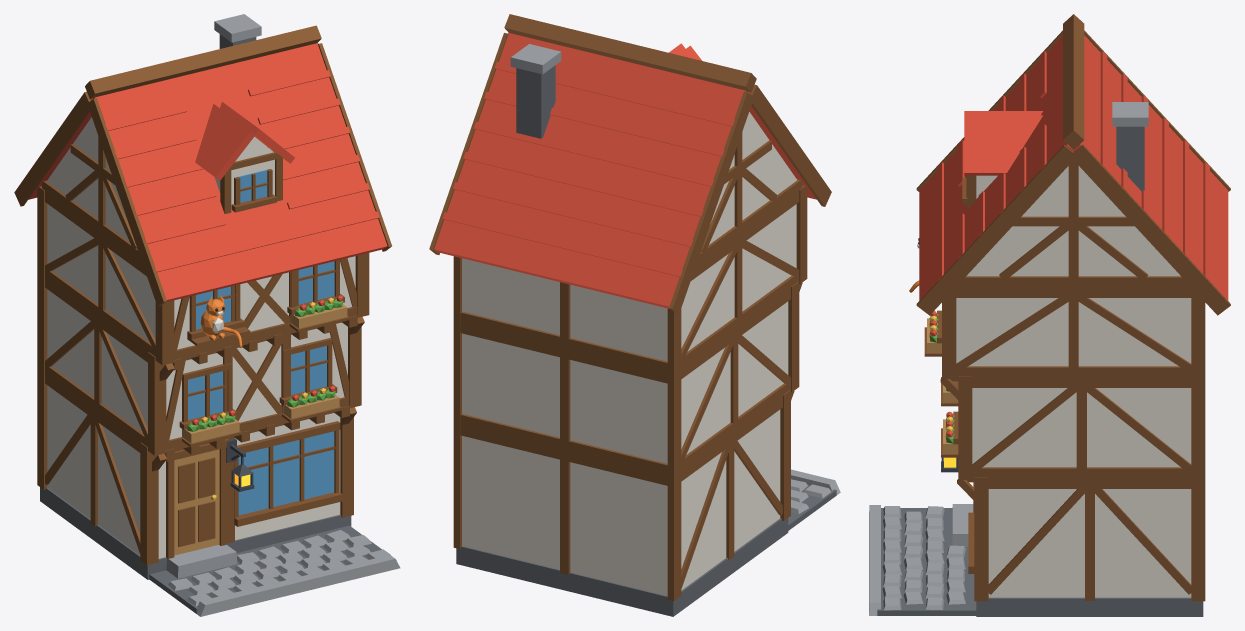
File: half-timbered-townhouse.glb
3 views of the same model, side by side, from view 1: azimuth 30°, elevation 25°; view 2: azimuth 150°, elevation 25°; view 3: azimuth 270°, elevation 25° (orthographic). The views are drawn at different scales.
Visible parts, largest first — view 1: Timber_Beams, Roof_Tiles, Plaster, Stone_Step_Cobbles, Windows_Glass, Plinth_Pavement_Chimney, Door_Panels, Flower_Boxes, Door, Flower_Leaves, Lantern, Cat; view 2: Plaster, Roof_Tiles, Timber_Beams, Plinth_Pavement_Chimney, Stone_Step_Cobbles; view 3: Plaster, Timber_Beams, Roof_Tiles, Stone_Step_Cobbles, Plinth_Pavement_Chimney, Flower_Boxes.
Part boxes in pixels (x1,y1,x2,y2): Timber_Beams: [14, 25, 391, 565]; Roof_Tiles: [28, 43, 387, 302]; Plaster: [46, 117, 355, 558]; Stone_Step_Cobbles: [166, 14, 400, 616]; Windows_Glass: [188, 170, 334, 515]; Plinth_Pavement_Chimney: [40, 34, 396, 613]; Door_Panels: [178, 457, 215, 546]; Flower_Boxes: [182, 304, 347, 443]; Door: [174, 449, 219, 555]; Flower_Leaves: [187, 298, 343, 431]; Lantern: [226, 438, 254, 491]; Cat: [200, 295, 225, 340]; Plaster: [462, 112, 796, 595]; Roof_Tiles: [434, 32, 816, 308]; Timber_Beams: [429, 14, 831, 601]; Plinth_Pavement_Chimney: [456, 65, 836, 616]; Stone_Step_Cobbles: [510, 44, 840, 513]; Plaster: [956, 166, 1191, 597]; Timber_Beams: [916, 14, 1230, 601]; Roof_Tiles: [919, 35, 1228, 300]; Stone_Step_Cobbles: [869, 102, 1148, 615]; Plinth_Pavement_Chimney: [877, 126, 1203, 616]; Flower_Boxes: [927, 318, 958, 453].
Size of the model in its own units: 13.7 by 26.83 by 17.86.
